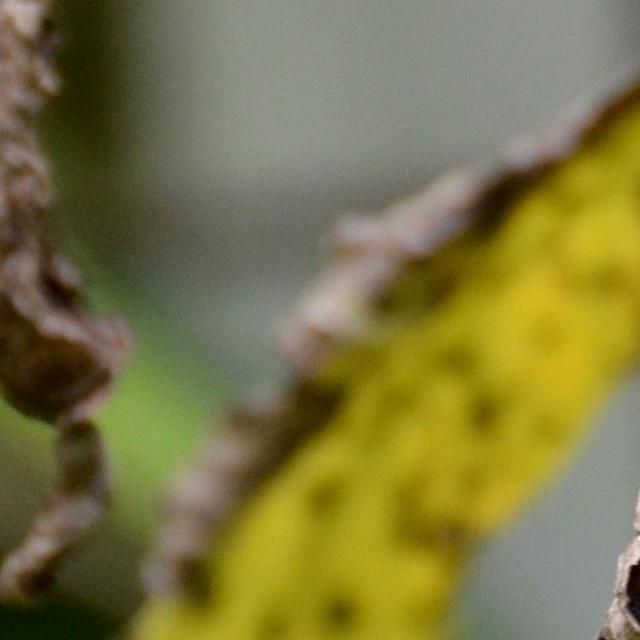Tomato Septoria leaf spot: (0, 2, 640, 640)
